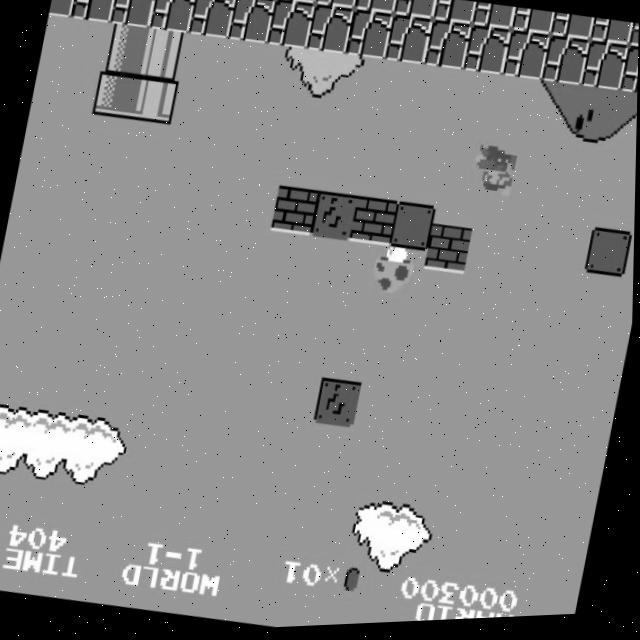1- brick_block: (349, 197, 398, 251), (271, 186, 320, 240)
11- little_mario: (469, 148, 521, 204)
12- mushroom: (369, 247, 421, 303)
13- mystery_block: (310, 192, 359, 246), (314, 379, 363, 432)
14- pipe: (139, 28, 188, 82), (101, 22, 150, 76)
15- pipe_head: (131, 73, 180, 127), (92, 68, 141, 121)
17- undestructible_block: (580, 44, 629, 98), (541, 38, 590, 92), (463, 27, 512, 81), (423, 21, 472, 75), (384, 16, 433, 70), (345, 10, 394, 64), (502, 33, 551, 86), (305, 5, 354, 58), (266, 0, 315, 53), (227, 0, 276, 48), (187, 0, 236, 41), (148, 0, 197, 36), (109, 0, 158, 30), (589, 21, 634, 53), (510, 10, 555, 42), (471, 4, 516, 36), (550, 16, 594, 47), (432, 0, 477, 30), (70, 0, 118, 25), (393, 0, 437, 25), (620, 50, 639, 102), (353, 0, 398, 19), (314, 0, 358, 13), (48, 0, 78, 18), (275, 0, 319, 7), (629, 28, 639, 58), (236, 0, 280, 3)
3- empty_block: (585, 231, 634, 284), (388, 203, 437, 256)
